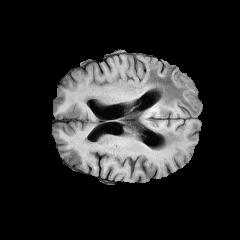glioma: (118, 68, 200, 149)
